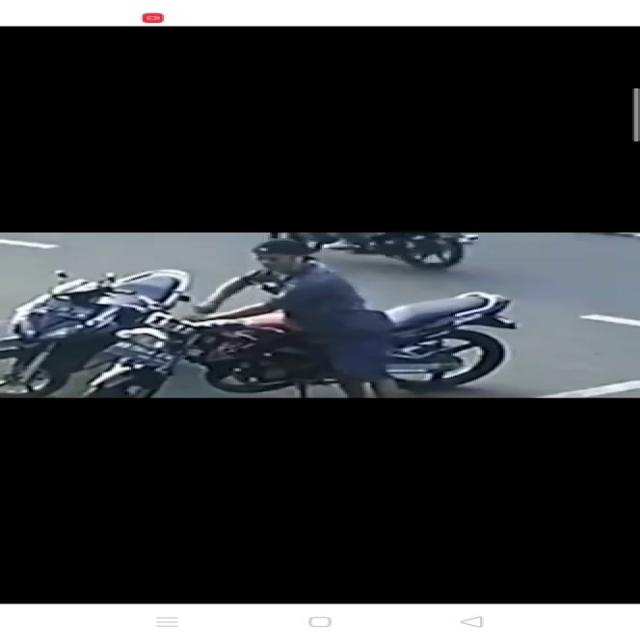pencurian: (91, 239, 524, 397)
